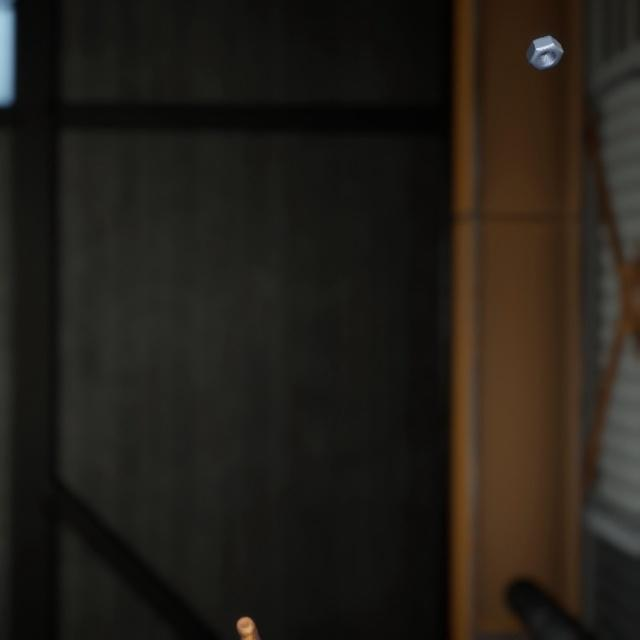bolt: (232, 586, 275, 640)
nut: (521, 21, 568, 65)
